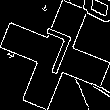L_S: (31, 26, 79, 84)
